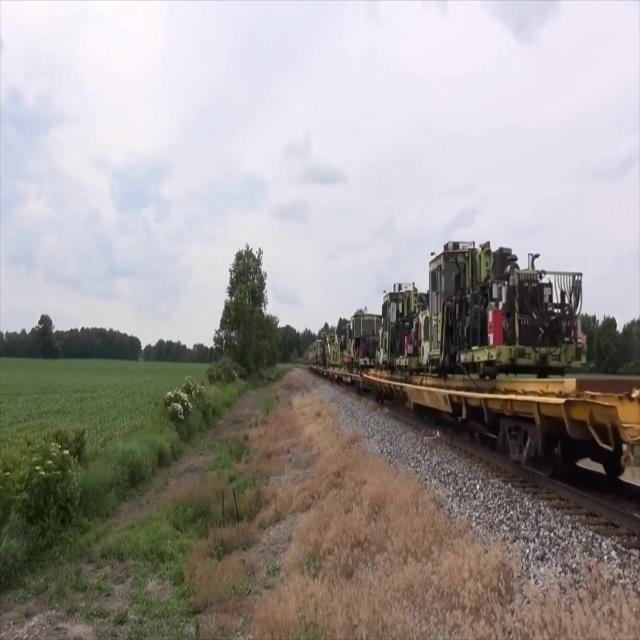cargo: (422, 227, 591, 375), (378, 274, 424, 363)
flatcar: (360, 364, 640, 511)
